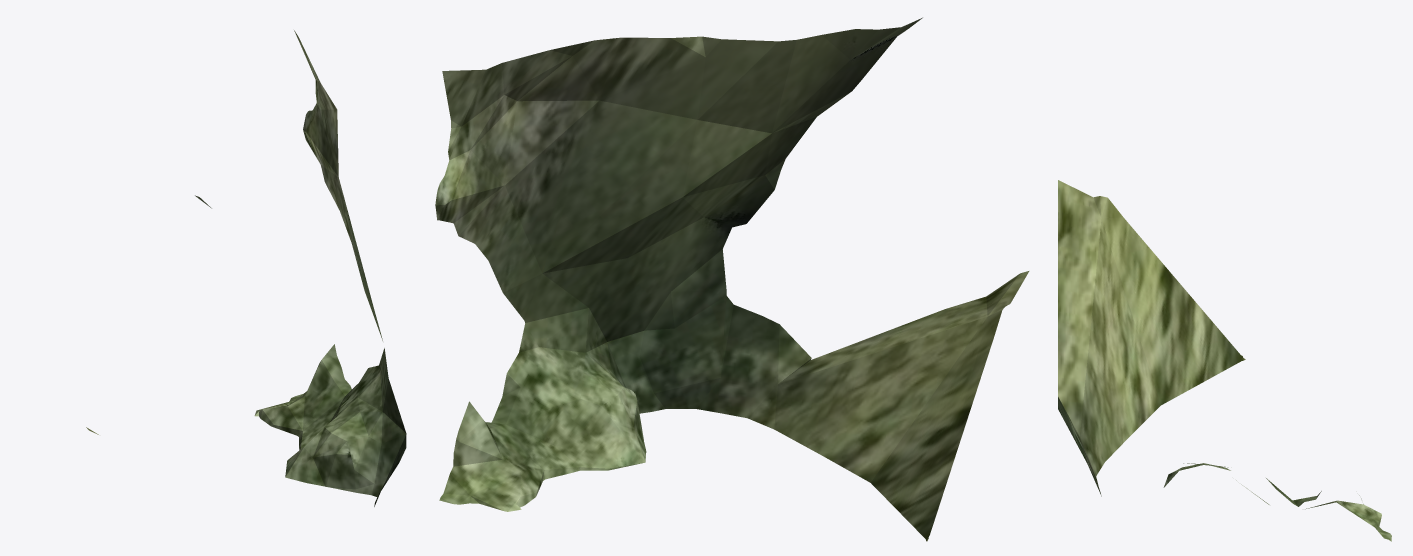
3 views of the same model, side by side, from view 1: azimuth 30°, elevation 25°; view 2: azimuth 150°, elevation 25°; view 3: azimuth 270°, elevation 25° (orthographic). The views are drawn at different scales.
Bounding box in the file's own units: 2.95 × 2.95 × 2.33.
Materials: 3 (3 with a texture image).
